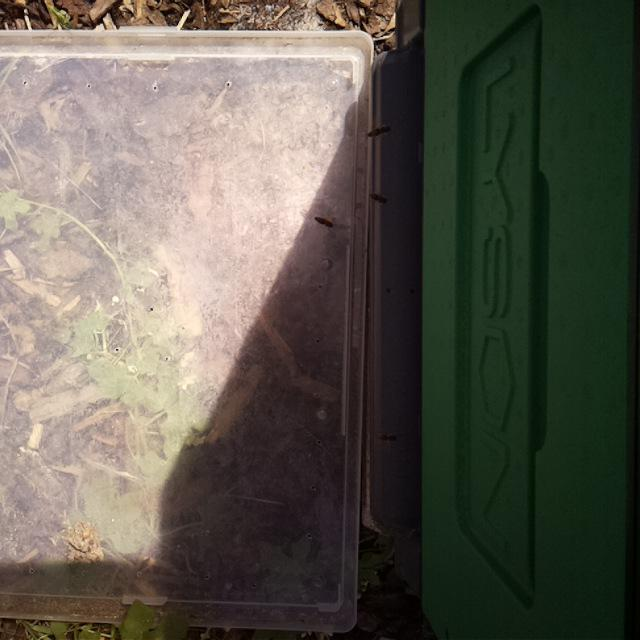worker-bee: (364, 119, 396, 141), (310, 211, 339, 232), (376, 432, 404, 448), (370, 191, 393, 208)
